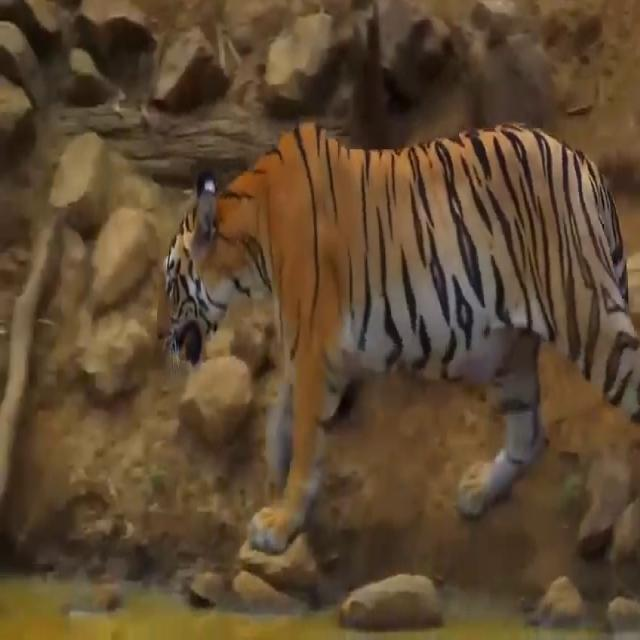tiger: (154, 118, 640, 556)
